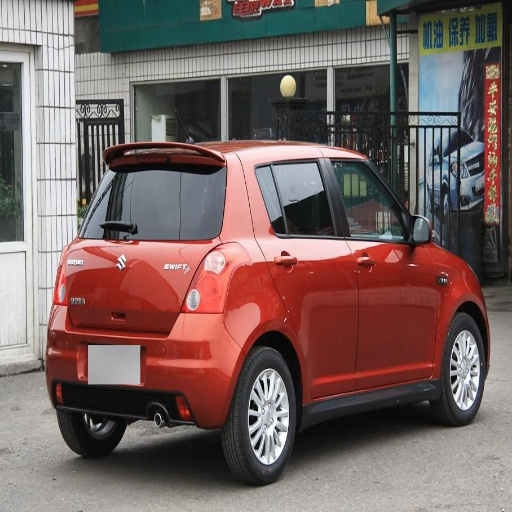back_bumper: (48, 307, 249, 426)
back_right_door: (250, 152, 357, 398)
trunk: (59, 235, 208, 379)
